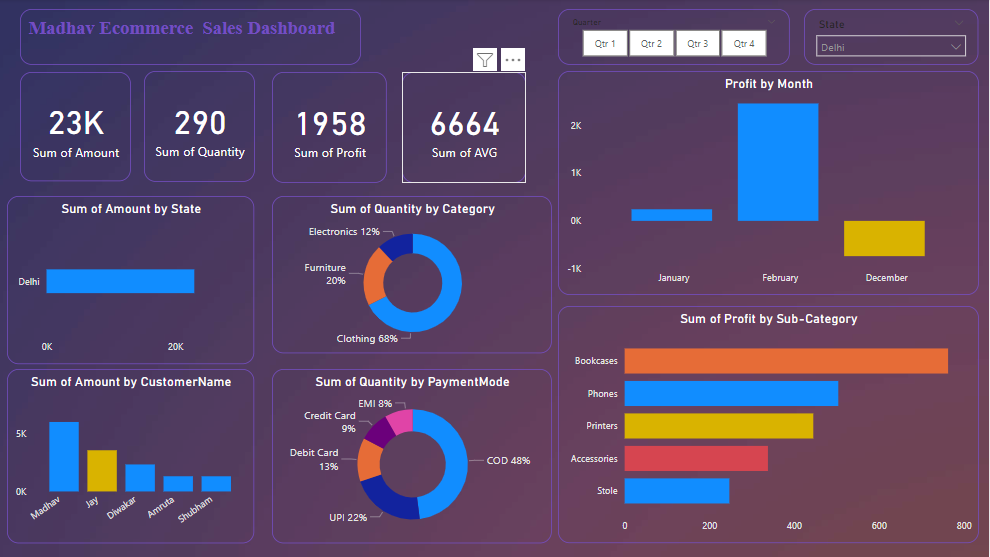

What the dashboard file says about the page in this screenshot:
{"tool":"powerbi","page":{"name":"Page 1","canvas":[1280,720],"ordinal":0},"visuals":[{"type":"textbox","box":[30.2,13.4,440.1,72.2],"z":0},{"type":"columnChart","title":"Profit by Month","fields":{"Y":["Details.Profit"],"Category":["Orders.Order Date.Variation.Date Hierarchy.Month"]},"box":[724.3,93.5,542.8,289.1],"z":1000},{"type":"barChart","fields":{"Category":["Details.Sub-Category"],"Y":["Details.Profit"]},"box":[724,396.4,542.6,305.7],"z":2000},{"type":"donutChart","fields":{"Category":["Details.Category"],"Y":["Details.Quantity"]},"box":[354.4,253.6,361.2,203.3],"z":3000},{"type":"donutChart","fields":{"Y":["Details.Quantity"],"Category":["Details.PaymentMode"]},"box":[354.4,477.1,361.2,225.1],"z":4000},{"type":"card","fields":{"Values":["Details.Amount"]},"box":[30.2,94.1,142.8,141.1],"z":5000},{"type":"card","fields":{"Values":["Details.Quantity"]},"box":[189.8,92.4,142.8,142.8],"z":6000},{"type":"card","fields":{"Values":["Details.Profit"]},"box":[354.4,94.1,147.8,142.8],"z":7000},{"type":"card","fields":{"Values":["Details.AVG"]},"box":[522.4,94.1,159.6,142.8],"z":8000},{"type":"barChart","fields":{"Category":["Orders.State"],"Y":["Details.Amount"]},"box":[13.4,253.6,319.2,216.7],"z":9000},{"type":"lineStackedColumnComboChart","fields":{"Category":["Orders.CustomerName"],"Y":["Details.Amount"]},"box":[13,477,319,225],"z":10000},{"type":"slicer","fields":{"Values":["Orders.Order Date.Variation.Date Hierarchy.Quarter"]},"box":[724.3,12.8,299.1,72.3],"z":10001},{"type":"slicer","fields":{"Values":["Orders.State"]},"box":[1041.5,13.4,225.1,72.2],"z":10002}]}

Visuals, with their boxes in screenshot pixels (x1, y1, x2, y2), scaled from the page's 1280x720 canvas onto the 990x557 screenshot:
textbox: pyautogui.locateOnScreen(23, 10, 364, 66)
"Profit by Month" columnChart: pyautogui.locateOnScreen(560, 72, 980, 296)
barChart - Details.Sub-Category x Details.Profit: pyautogui.locateOnScreen(560, 307, 980, 543)
donutChart - Details.Category x Details.Quantity: pyautogui.locateOnScreen(274, 196, 553, 353)
donutChart - Details.Quantity x Details.PaymentMode: pyautogui.locateOnScreen(274, 369, 553, 543)
card - Details.Amount: pyautogui.locateOnScreen(23, 73, 134, 182)
card - Details.Quantity: pyautogui.locateOnScreen(147, 71, 257, 182)
card - Details.Profit: pyautogui.locateOnScreen(274, 73, 388, 183)
card - Details.AVG: pyautogui.locateOnScreen(404, 73, 527, 183)
barChart - Orders.State x Details.Amount: pyautogui.locateOnScreen(10, 196, 257, 364)
lineStackedColumnComboChart - Orders.CustomerName x Details.Amount: pyautogui.locateOnScreen(10, 369, 257, 543)
slicer - Orders.Order Date.Variation.Date Hierarchy.Quarter: pyautogui.locateOnScreen(560, 10, 792, 66)
slicer - Orders.State: pyautogui.locateOnScreen(806, 10, 980, 66)
